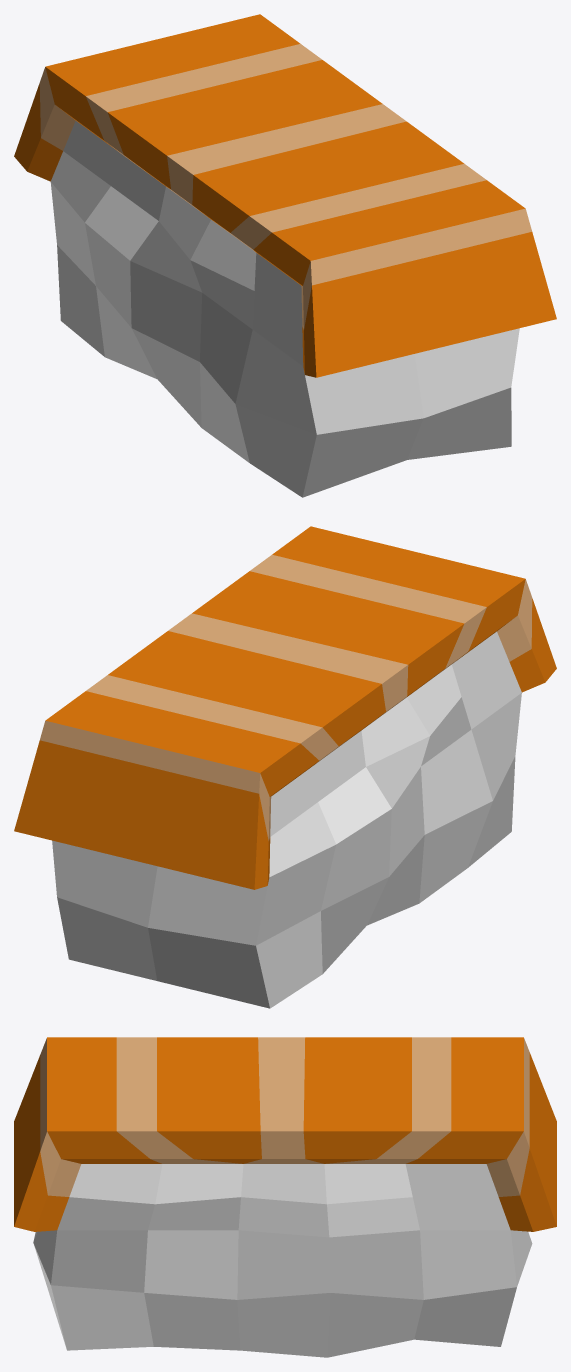
The model's file is m_coloniusLory_Sushi_Salmon.fbx.
3 views of the same model, one above another, from view 1: azimuth 30°, elevation 25°; view 2: azimuth 150°, elevation 25°; view 3: azimuth 270°, elevation 25° (orthographic). The views are drawn at different scales.
Visible parts, largest first — view 1: m_coloniusLory_Sushi_Salmon; view 2: m_coloniusLory_Sushi_Salmon; view 3: m_coloniusLory_Sushi_Salmon.
Boxes of the visible parts, left/top/right/bottom form: m_coloniusLory_Sushi_Salmon: left=14, top=14, right=556, bottom=497; m_coloniusLory_Sushi_Salmon: left=14, top=526, right=556, bottom=1008; m_coloniusLory_Sushi_Salmon: left=14, top=1037, right=556, bottom=1357.
Bounding box in the file's own units: 3.17 × 2.87 × 6.4.
